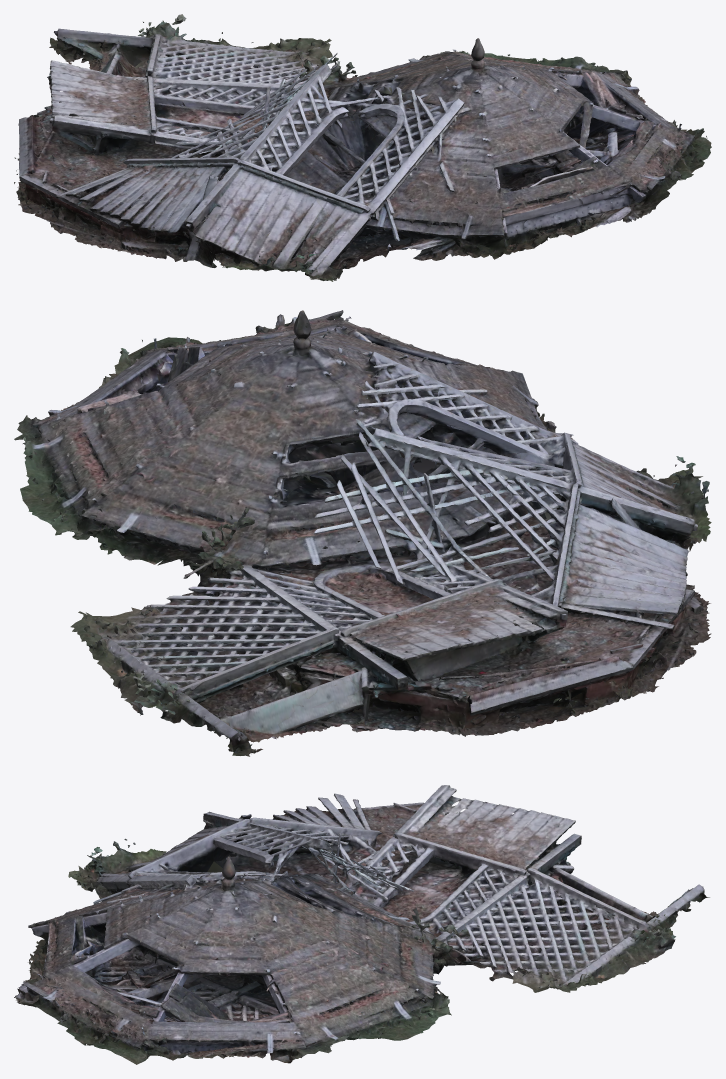
Rendered from sf-destroyed-garden-house-3d-scan-f73a66.glb.
3 renders of one model, top to bottom at view 1: azimuth 30°, elevation 25°; view 2: azimuth 150°, elevation 25°; view 3: azimuth 270°, elevation 25°, orthographic. The views are drawn at different scales.
Parts seen in each view (by area): view 1: meshNode__0; view 2: meshNode__0; view 3: meshNode__0.
Part boxes in pixels (bbox=[...]): meshNode__0: bbox=[14, 14, 711, 281]; meshNode__0: bbox=[14, 310, 711, 756]; meshNode__0: bbox=[14, 785, 709, 1064].
Size of the model in its own units: 2427 by 672 by 2643.
Materials: 1 (1 with a texture image).
